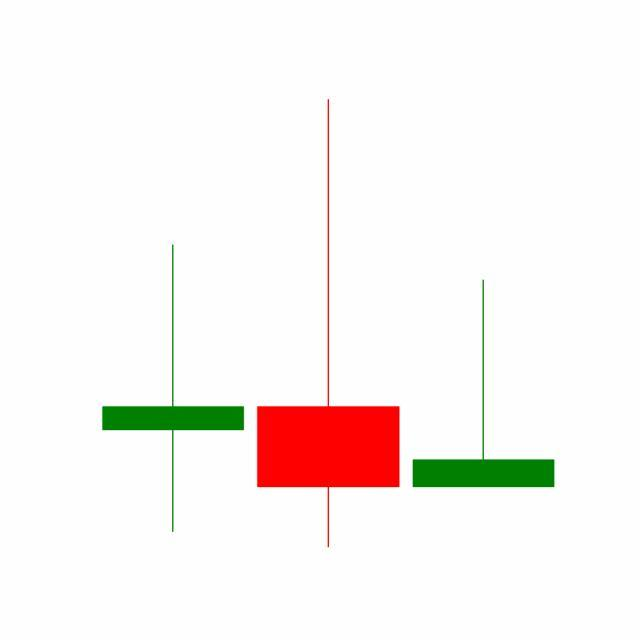Gravestone Doji: (406, 278, 562, 490)
